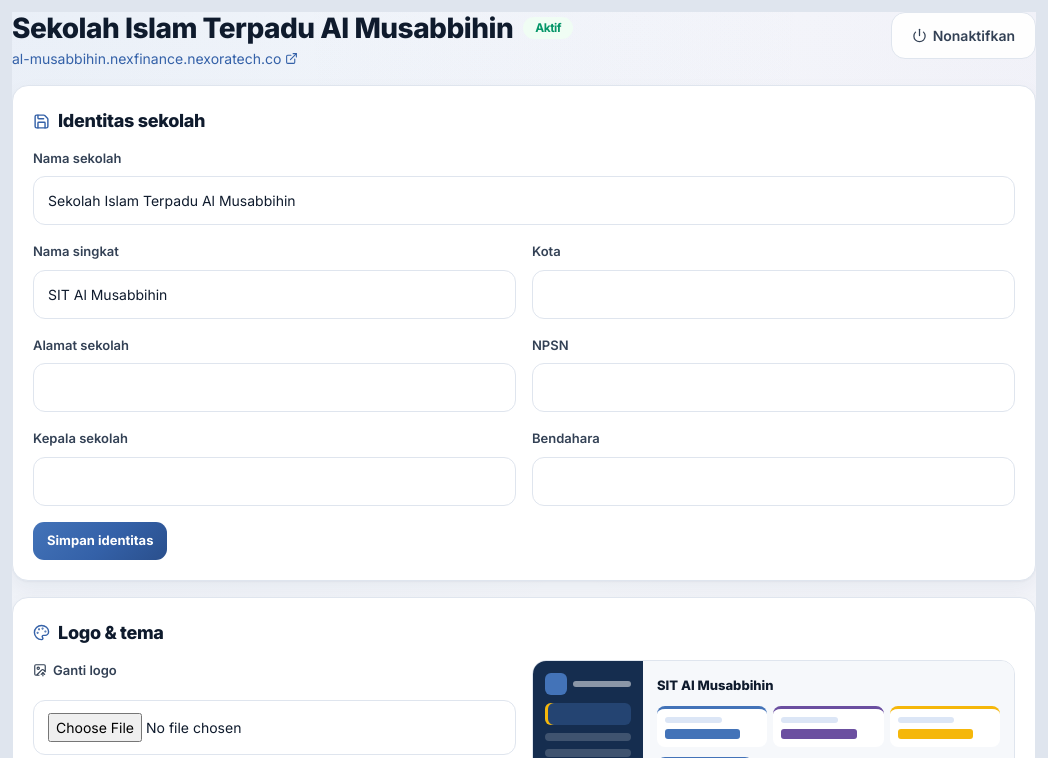
Test case: TenantDetail › suspends a tenant after confirmation
The image size is (1048, 758).
Click the button "Nonaktifkan".
click(963, 36)  # box x1=891 y1=12 x2=1036 y2=59
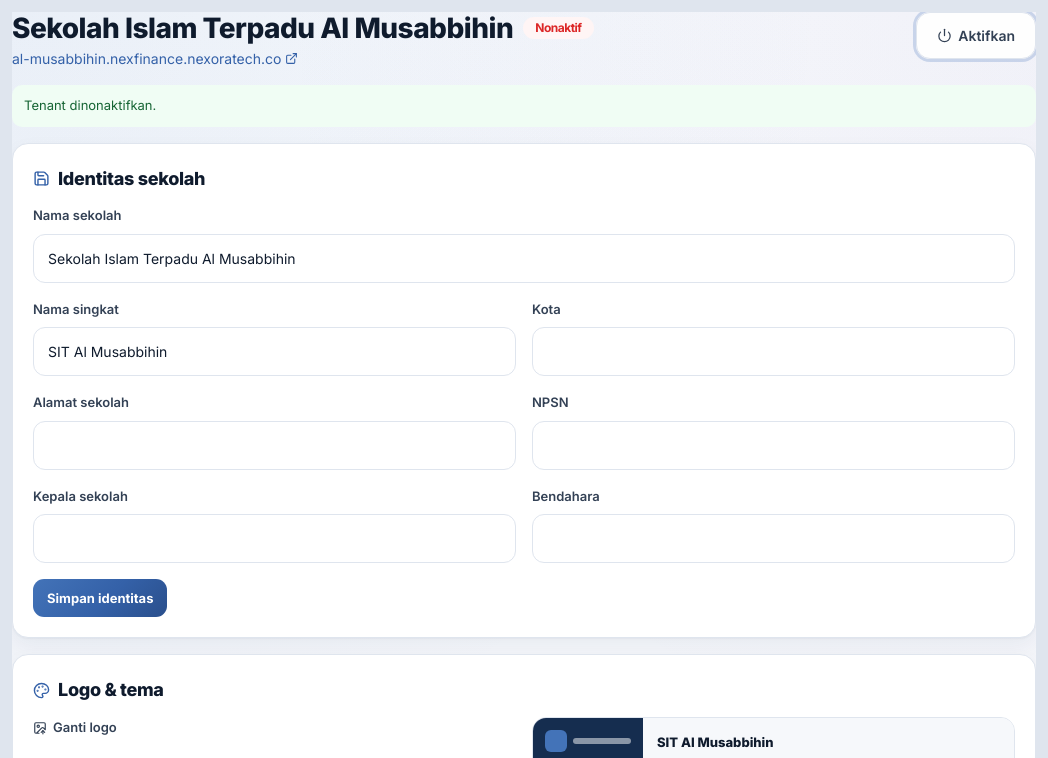
expect the text "Nonaktif" is shown: met, box x1=523 y1=17 x2=594 y2=39
